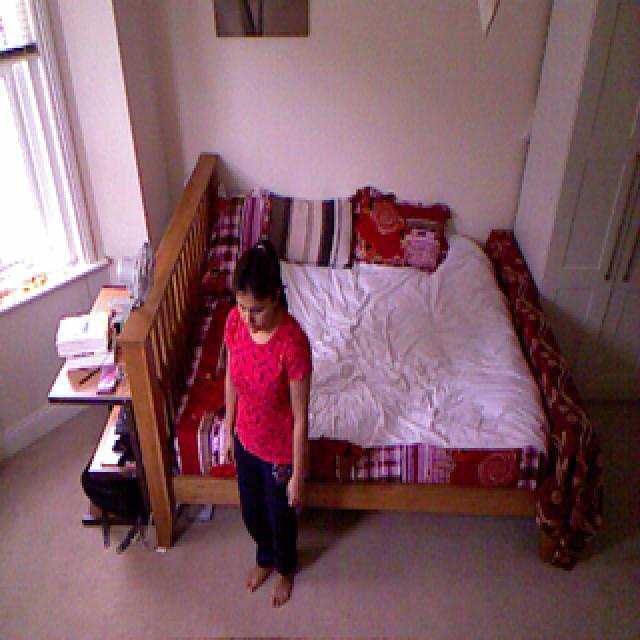standing: (223, 242, 313, 595)
